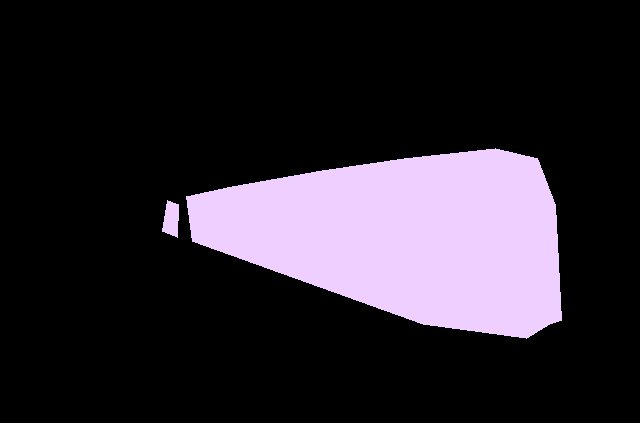Train: (162, 148, 562, 339)
